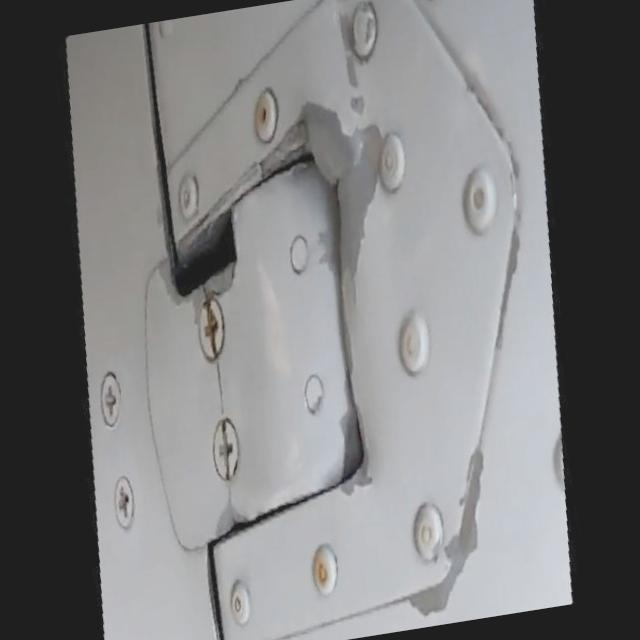crack: (198, 354, 238, 424)
